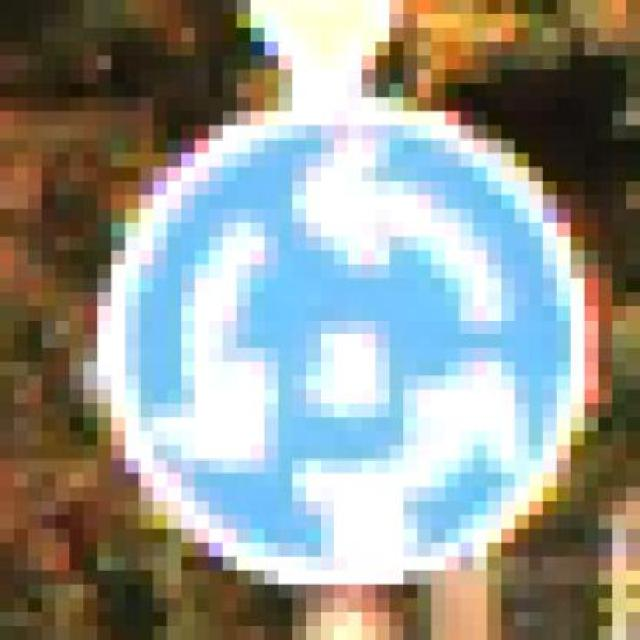Round-About: (56, 97, 626, 612)
